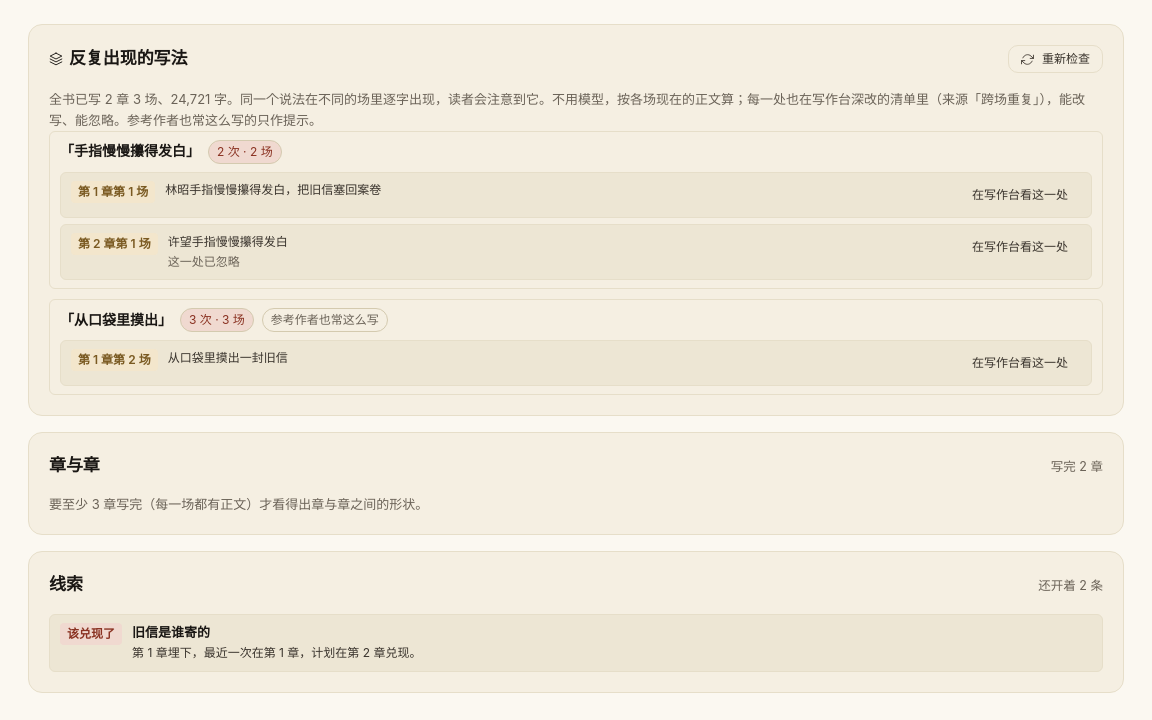
Scenario: 成稿中心 · 跨章 › 章与章：不到三章写完时说清楚；够了就列连着几章同样的收尾与篇幅异常的章
expect the element with test id "cross-shapes" shows "要至少 3 章写完": met, box x1=28 y1=432 x2=1124 y2=535
Click the button with test id "cross-reload". click: click(1056, 59)
box: x1=1008 y1=45 x2=1103 y2=73
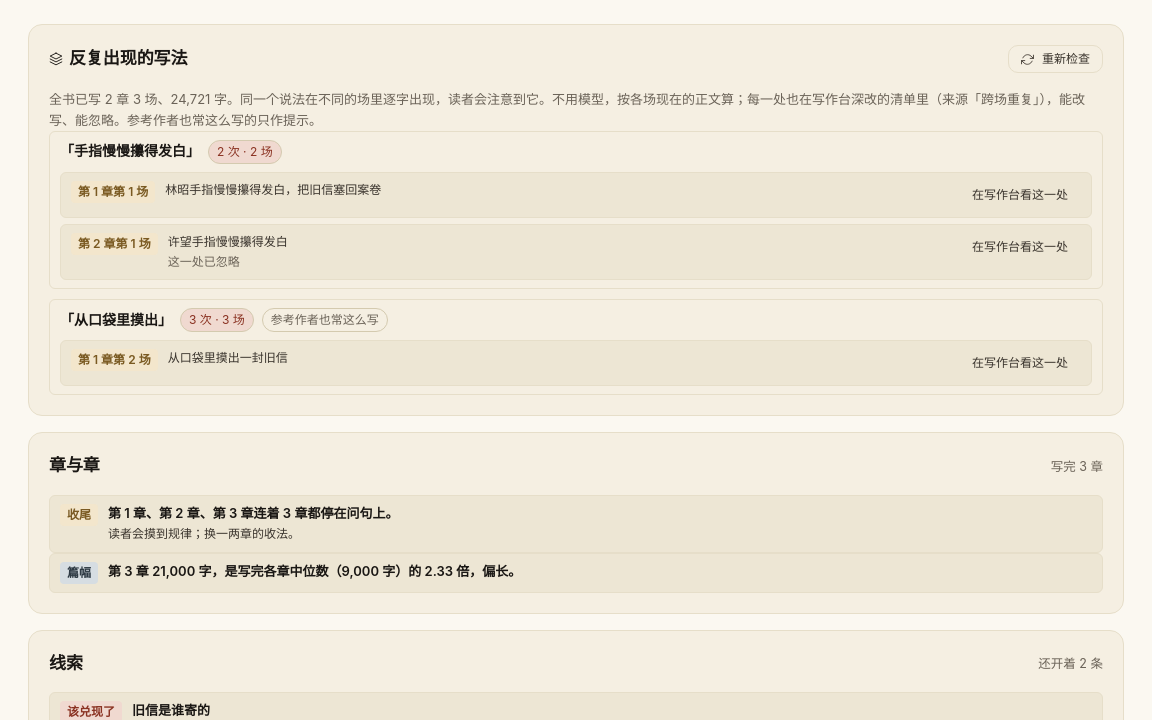
expect the list item with test id "cross-streak" shows "第 1 章、第 2 章、第 3 章连着 3 章都停在问句上": met, box x1=49 y1=495 x2=1103 y2=553
expect the list item with test id "cross-length" shows "2.33 倍，偏长": met, box x1=49 y1=553 x2=1103 y2=593
